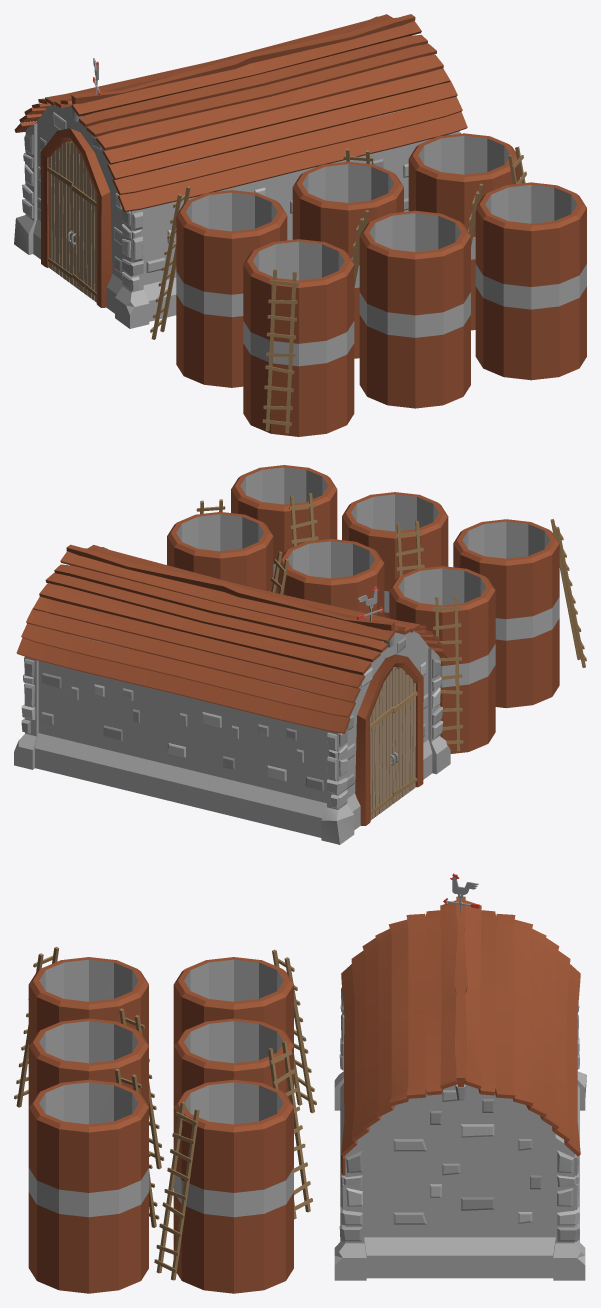
The model's file is silo.fbx.
The picture shows the model from 3 angles, top to bottom: view 1: azimuth 30°, elevation 25°; view 2: azimuth 150°, elevation 25°; view 3: azimuth 270°, elevation 25°; orthographic projection. The views are drawn at different scales.
Visible parts, largest first — view 1: Silo; view 2: Silo; view 3: Silo.
Part boxes in pixels (x1=…): Silo: x1=14, y1=14, x2=586, y2=436; Silo: x1=14, y1=465, x2=586, y2=844; Silo: x1=14, y1=873, x2=586, y2=1293.
Bounding box in the file's own units: 495 × 319 × 650.
